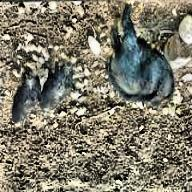boar: (101, 0, 182, 130), (37, 50, 90, 118), (9, 58, 44, 127)
